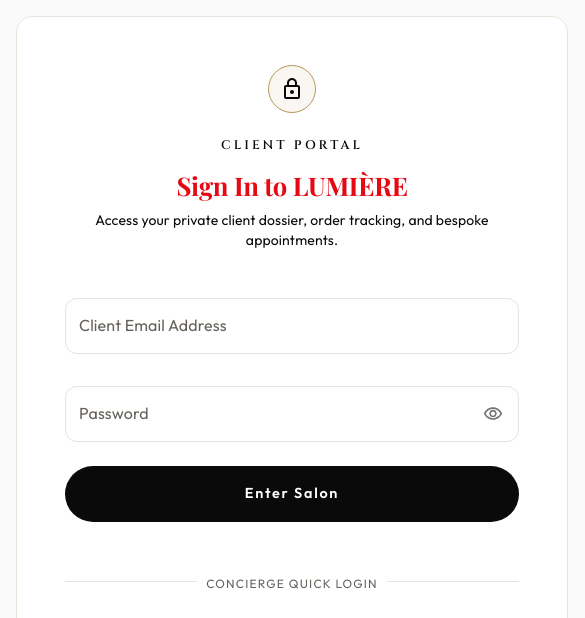
it: Stage 9B: Auth UI, Password Policy, and Session Remediation › Task 1 & Task 6: Login UI, Password Policy & Demo Account › 2. Password validation boundary: rejects fewer than 8 characters on LoginPage
Enter 7 characters (boundary: min 8)
Step 1. Type "client@lumiere.com" into the field labelled "Client Email Address" → (292, 326), box [65,298,519,354]
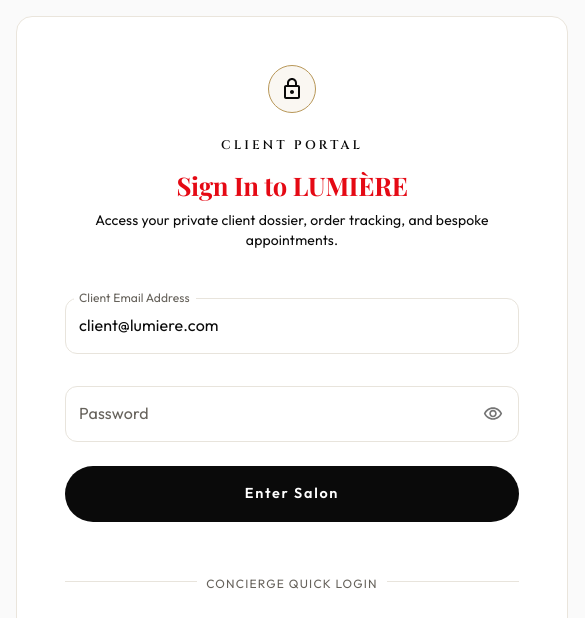
Step 2. Type "1234567" into the password field labelled "Password" → (268, 414), box [65,386,470,442]
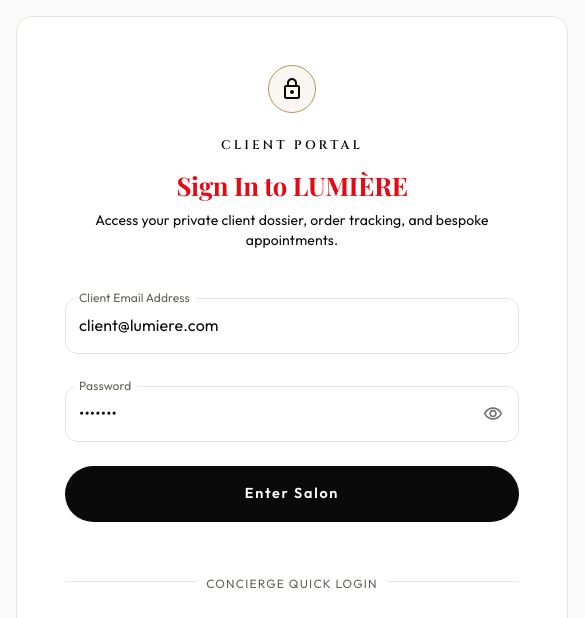
Step 3. Click the button "Enter Salon" → (292, 494), box [65,466,519,522]
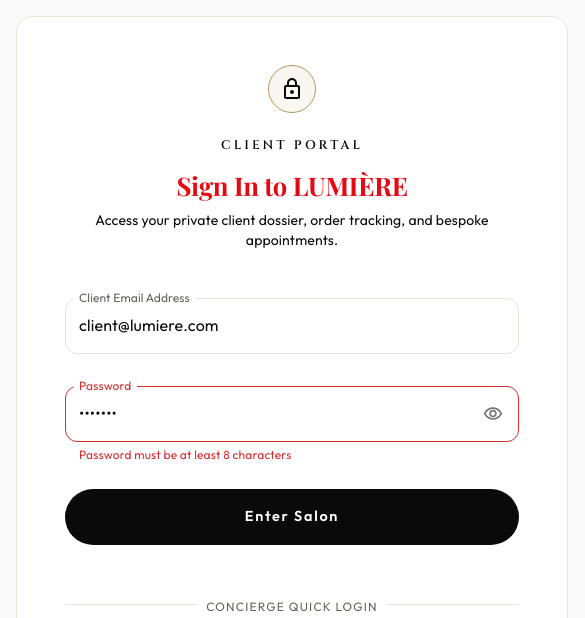
Now the text "Password must be at least 8 characters" is shown, box [79,447,291,462]
